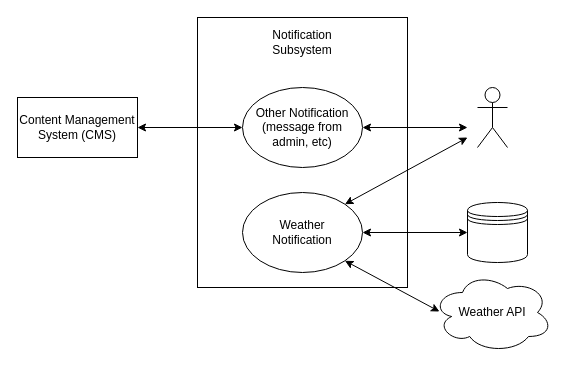
This 570x370 diagram has some shape labels left out. The shapes that lost their labels are listed below. From the top down, each one's centre as x and y in pixels, then its label:
point 492,117: Registered User
point 497,232: Trip DB
